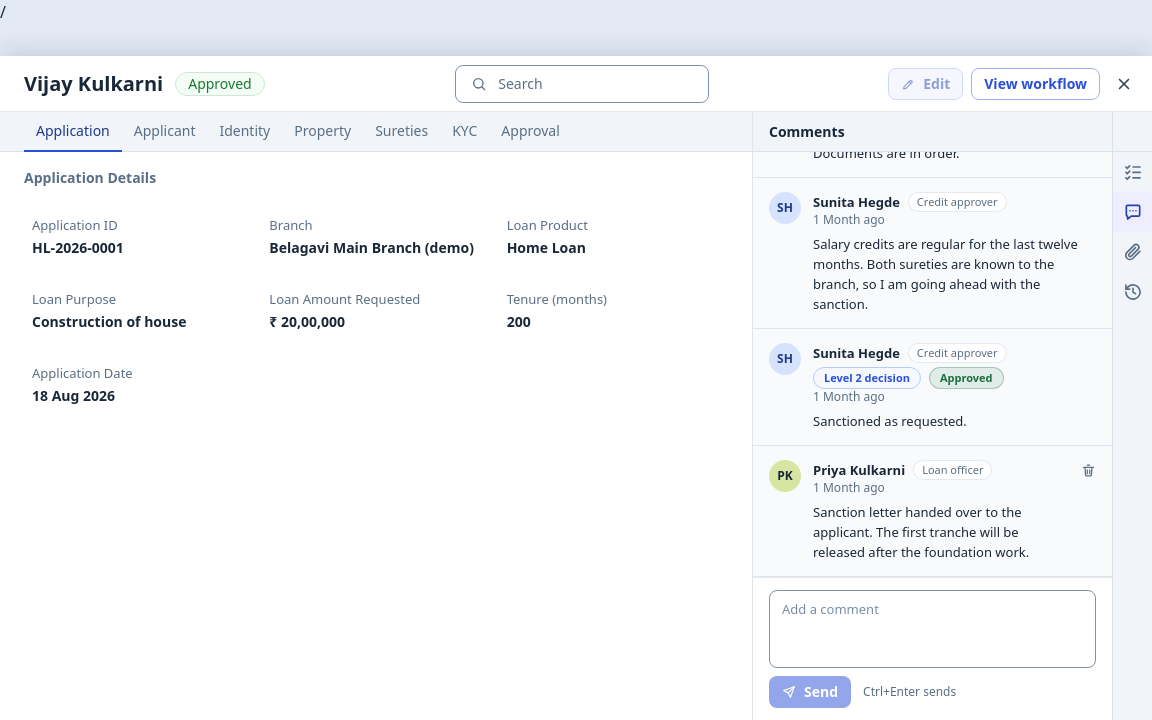
Test: the panel › has the title Files and Attachments and the two groups with their counts
(page scrolled)
Click the button named "Files and Attachments" at (1132, 252), box [1113,232,1151,272]
(page scrolled)
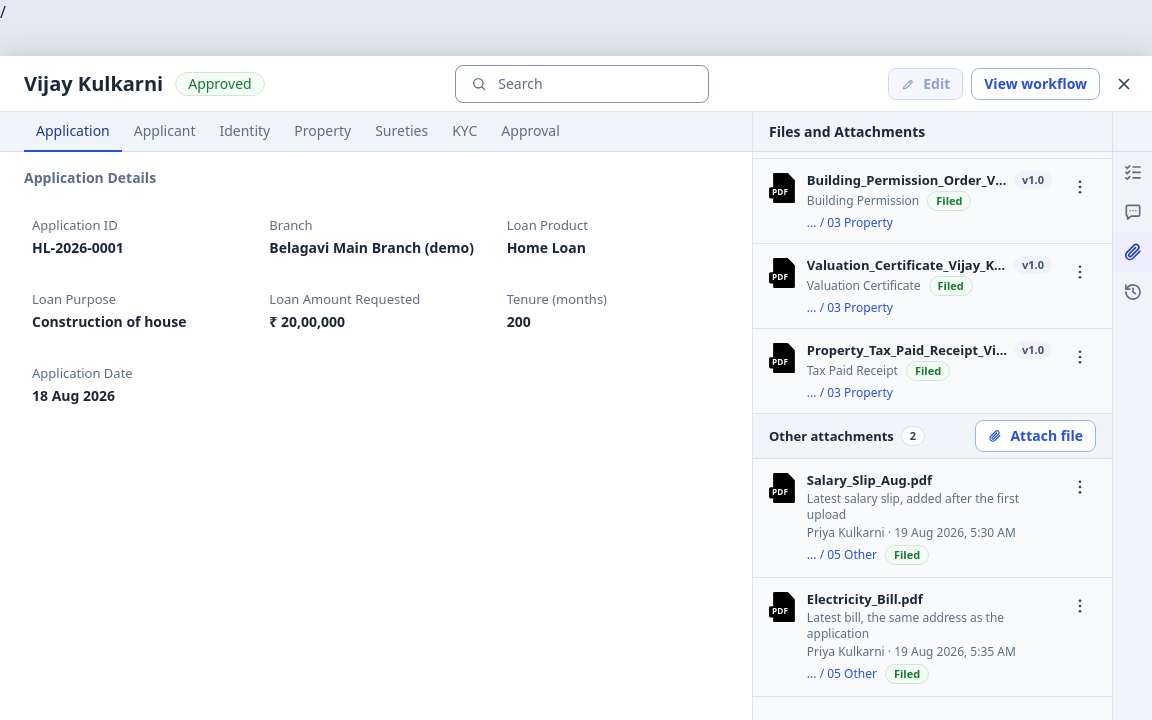
Expected: the heading "Files and Attachments" is shown, [769,122,925,142]
Expected: the heading "Other attachments 2" is shown, [769,426,924,446]
Expected: the text named "2 attachments" reads "2", [910,428,916,443]
